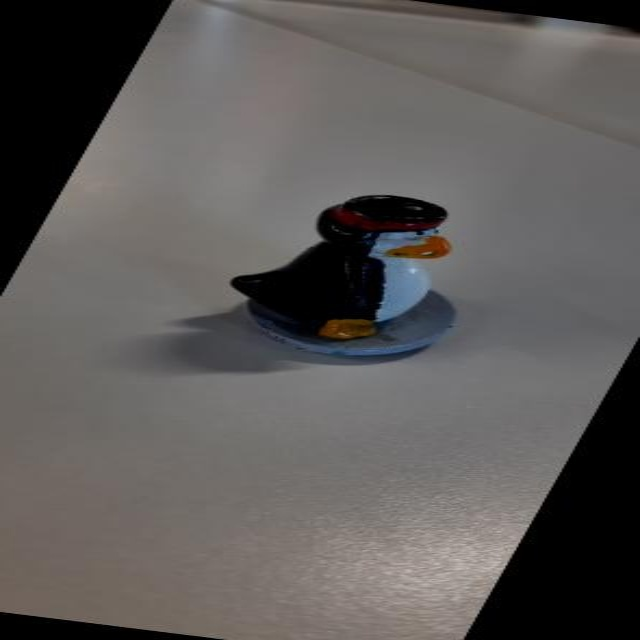Penguin: (172, 156, 556, 384)
